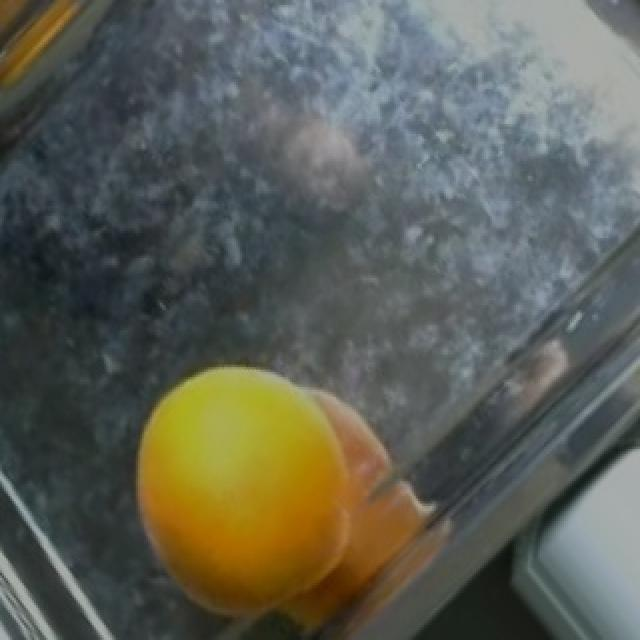Fruit: (122, 342, 462, 640), (0, 0, 108, 119)
